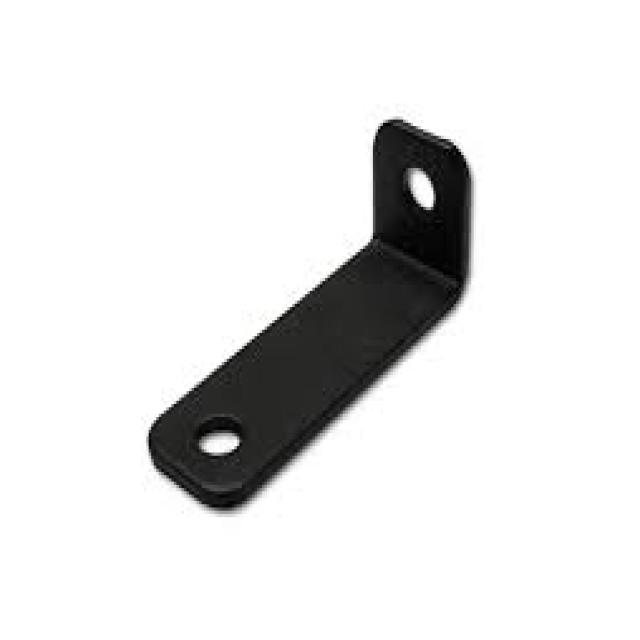holes: (194, 414, 242, 459), (401, 162, 436, 213)
